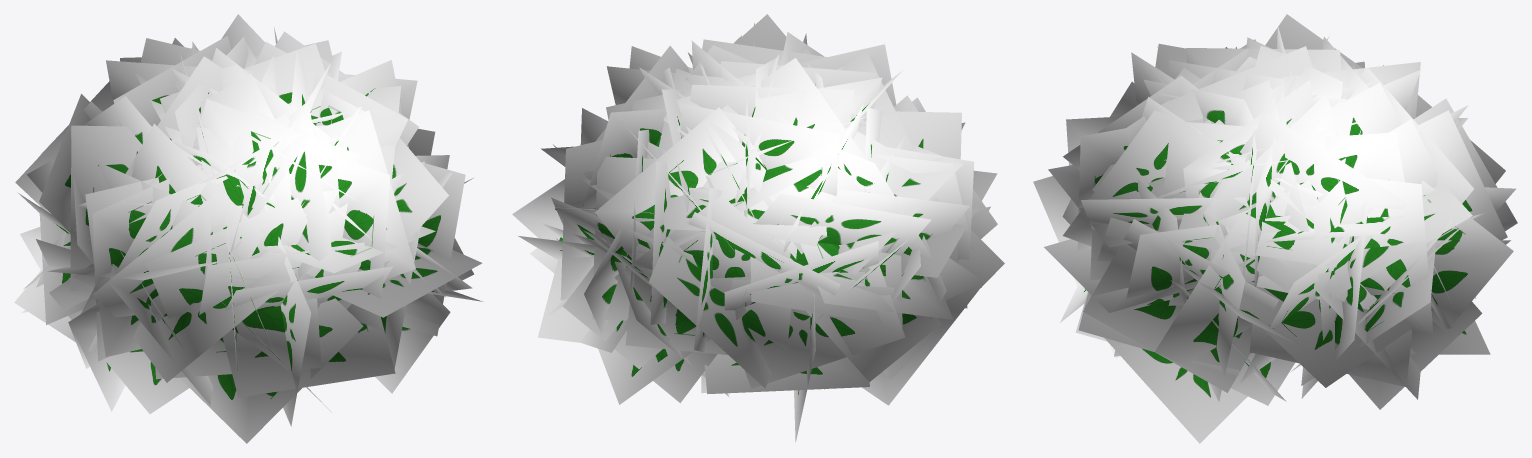
Rendered from bush.fbx.
The picture shows the model from 3 angles, left to right: view 1: azimuth 30°, elevation 25°; view 2: azimuth 150°, elevation 25°; view 3: azimuth 270°, elevation 25°; orthographic projection.
Parts seen in each view (by area): view 1: Bush; view 2: Bush; view 3: Bush.
Part boxes in pixels (x1=…): Bush: x1=14, y1=14, x2=483, y2=443; Bush: x1=512, y1=14, x2=1004, y2=442; Bush: x1=1033, y1=14, x2=1517, y2=443.
Bounding box in the file's own units: 2.5 × 1.93 × 2.45.
